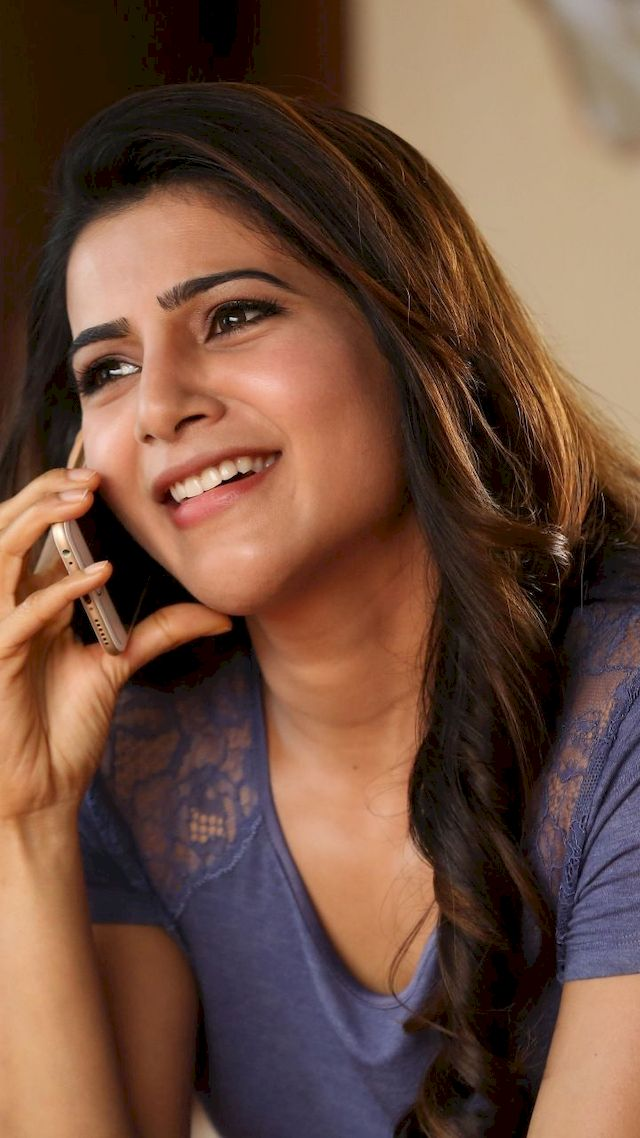phone: (33, 443, 166, 681)
talk: (1, 244, 342, 802)
